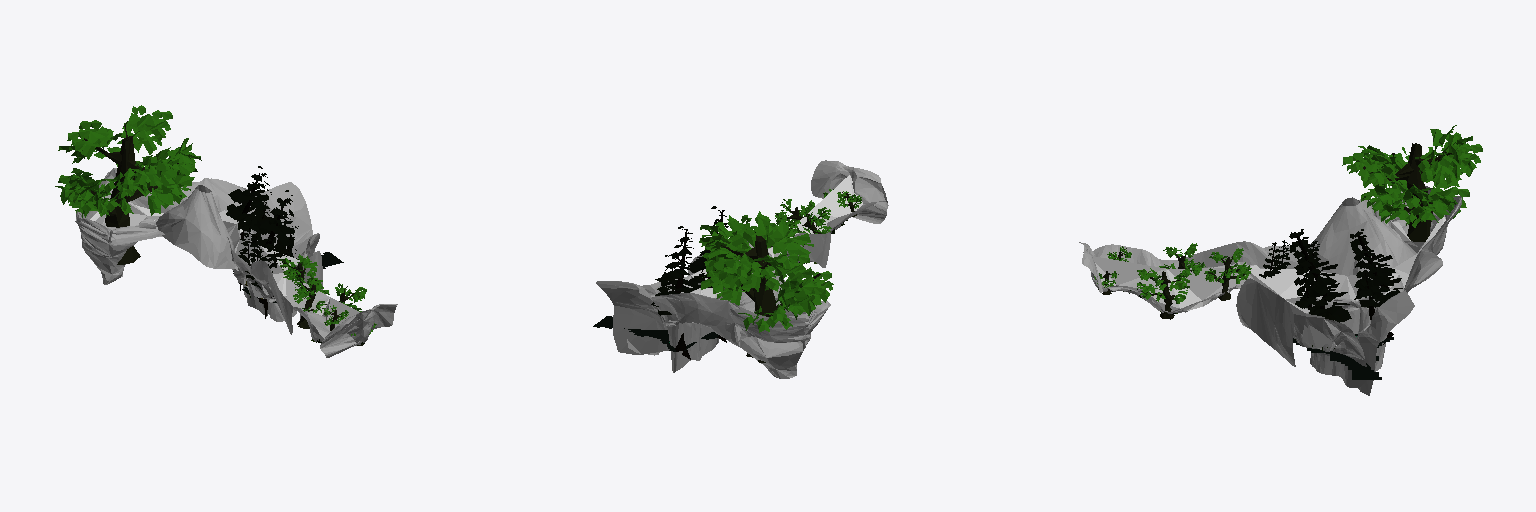
The model's file is terrain_col.obj.
3 renders of one model, left to right at view 1: azimuth 30°, elevation 25°; view 2: azimuth 150°, elevation 25°; view 3: azimuth 270°, elevation 25°, orthographic.
Parts seen in each view (by area): view 1: Terrain.001_Plane.001, oak.005_Cube.001, Terrain-Colision-colonly_Plane.005, Tree1.000_Cylinder.001, Tree1.004_Cylinder.001, oak.001_Cube.002, oak_Cube.002; view 2: Terrain.001_Plane.001, oak.005_Cube.001, Terrain-Colision-colonly_Plane.005, Tree1.000_Cylinder.001, water.001; view 3: Terrain.001_Plane.001, oak.005_Cube.001, Terrain-Colision-colonly_Plane.005, Tree1.004_Cylinder.001, Tree1.000_Cylinder.001, oak.002_Cube.002, oak_Cube.002, water.001, oak.001_Cube.002.
Part boxes in pixels (bbox=[...]): Terrain.001_Plane.001: bbox=[75, 168, 397, 357]; oak.005_Cube.001: bbox=[55, 105, 201, 264]; Terrain-Colision-colonly_Plane.005: bbox=[90, 202, 370, 333]; Tree1.000_Cylinder.001: bbox=[226, 166, 273, 234]; Tree1.004_Cylinder.001: bbox=[252, 190, 298, 259]; oak.001_Cube.002: bbox=[293, 276, 329, 328]; oak_Cube.002: bbox=[279, 254, 322, 285]; Terrain.001_Plane.001: bbox=[596, 160, 888, 378]; oak.005_Cube.001: bbox=[699, 211, 833, 362]; Terrain-Colision-colonly_Plane.005: bbox=[665, 175, 862, 346]; Tree1.000_Cylinder.001: bbox=[651, 226, 697, 315]; water.001: bbox=[593, 316, 718, 351]; Terrain.001_Plane.001: bbox=[1079, 186, 1461, 395]; oak.005_Cube.001: bbox=[1342, 125, 1482, 241]; Terrain-Colision-colonly_Plane.005: bbox=[1092, 212, 1445, 349]; Tree1.004_Cylinder.001: bbox=[1289, 229, 1351, 322]; Tree1.000_Cylinder.001: bbox=[1350, 229, 1402, 307]; oak.002_Cube.002: bbox=[1137, 268, 1189, 319]; oak_Cube.002: bbox=[1204, 248, 1251, 300]; water.001: bbox=[1293, 334, 1393, 379]; oak.001_Cube.002: bbox=[1159, 243, 1205, 277].
Bounding box in the file's own units: 400 × 287 × 568.